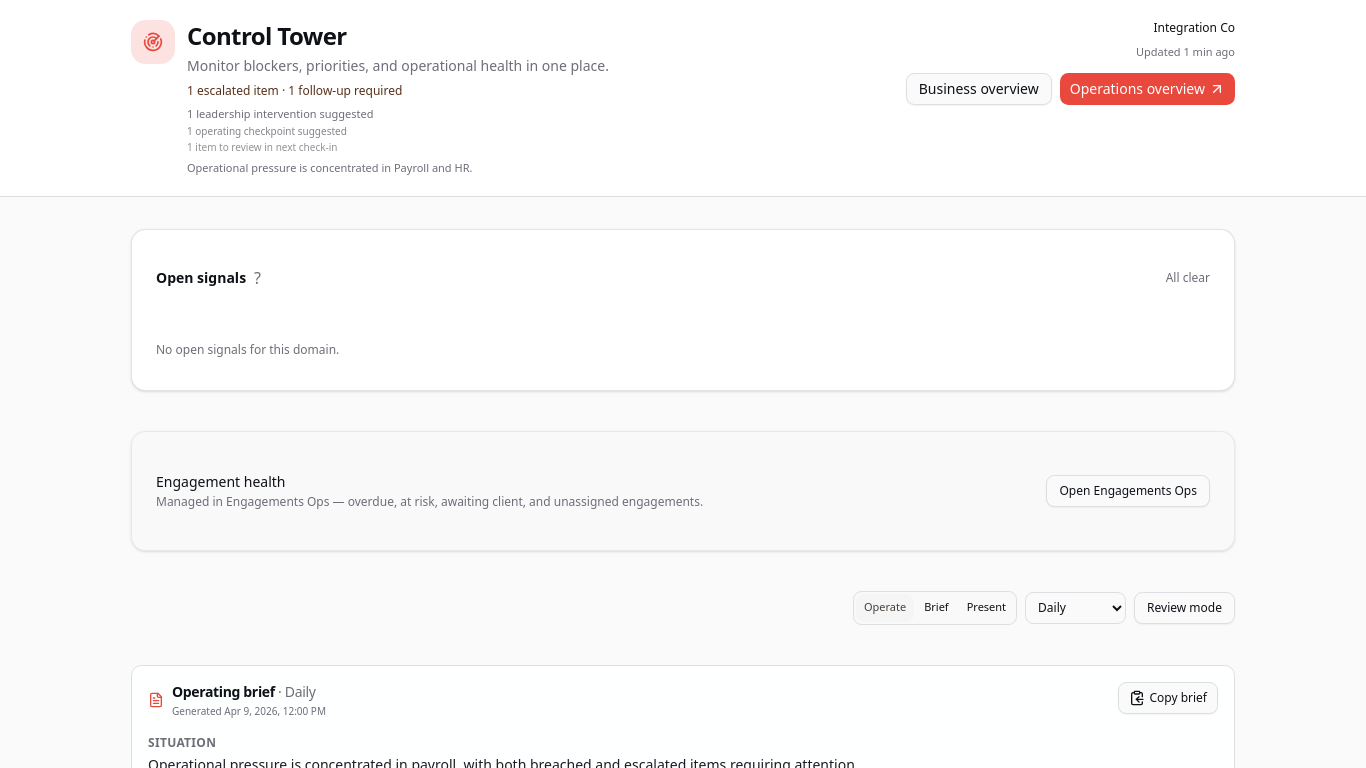
Test: ControlTowerPage integration (composition) › switching back to operate restores queue, KPI, and footer
What coordinates should you click on to do the following:
click the button "Present"
I would click on:
 (986, 608)
Its box is [959,594,1014,622].
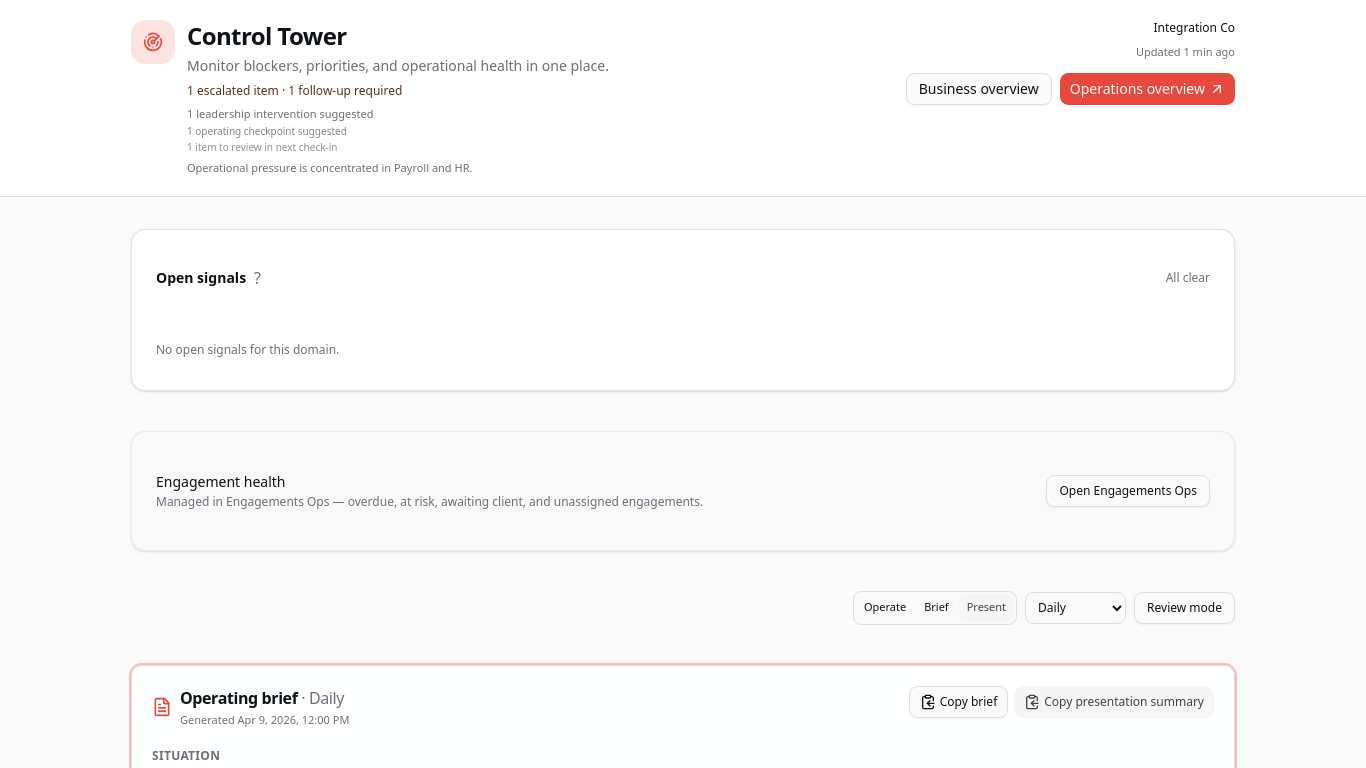
Expected: the element "Action queue" is not shown
What coordinates should you click on to do the following:
click the button "Operate"
I would click on:
 (885, 608)
Its box is [856,594,914,622].
(page scrolled)
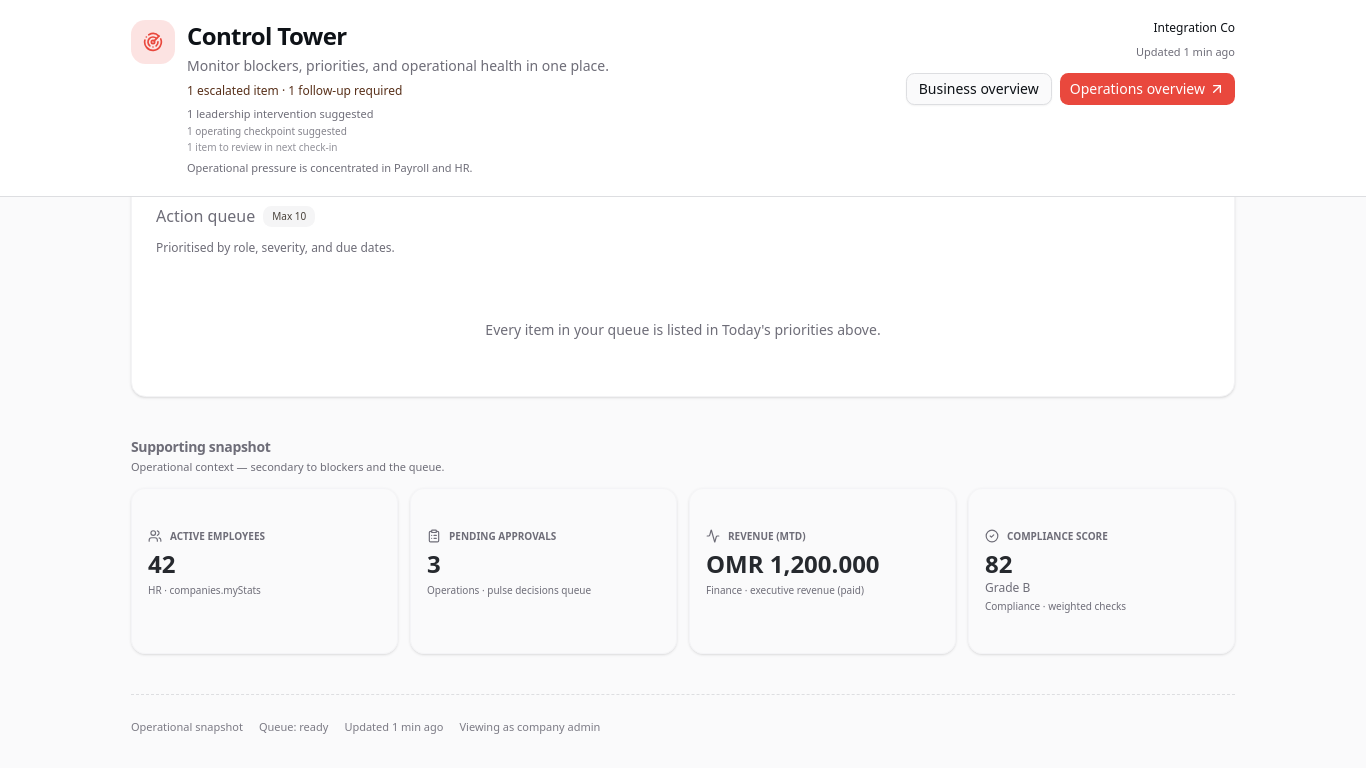
Expected: the element "Action queue" is shown, [131,110,1235,397]
Expected: the element named "Key metrics" is shown, [131,437,1235,654]
Expected: the text "Operational snapshot" is shown, [131,719,243,736]
